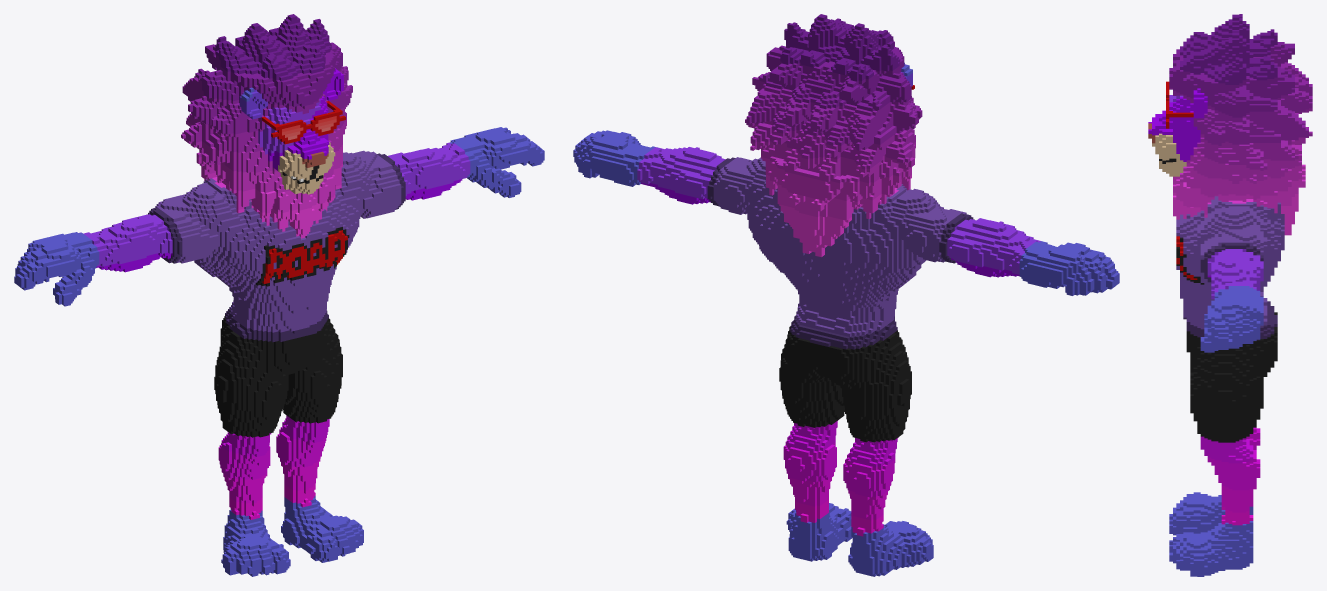
Rendered from 701-y4ngUt1Z.glb.
The picture shows the model from 3 angles, left to right: view 1: azimuth 30°, elevation 25°; view 2: azimuth 150°, elevation 25°; view 3: azimuth 270°, elevation 25°; orthographic projection. The views are drawn at different scales.
Visible parts, largest first — view 1: smirk; view 2: smirk; view 3: smirk.
Boxes of the visible parts, x1,y1,x2,y2 form: smirk: (14,14,544,576); smirk: (573,14,1119,576); smirk: (1148,14,1312,576).
Size of the model in its own units: 17.2 by 16.5 by 4.7.
Materials: 5 (5 with a texture image).
